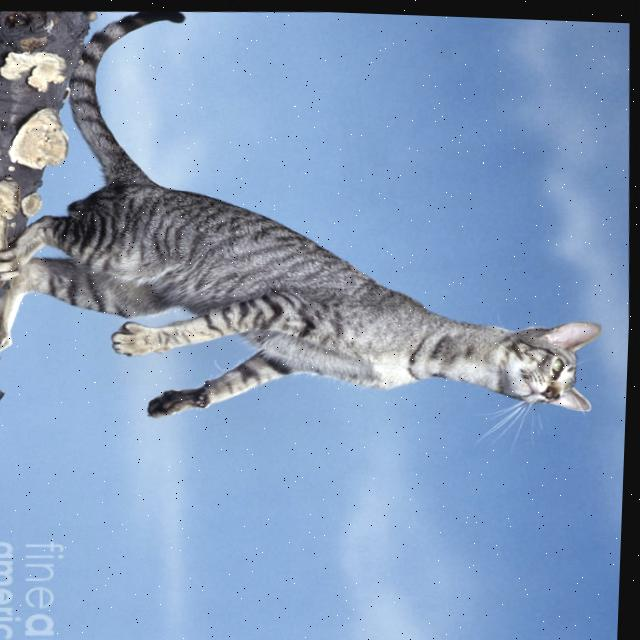Oriental: (0, 0, 620, 438)
